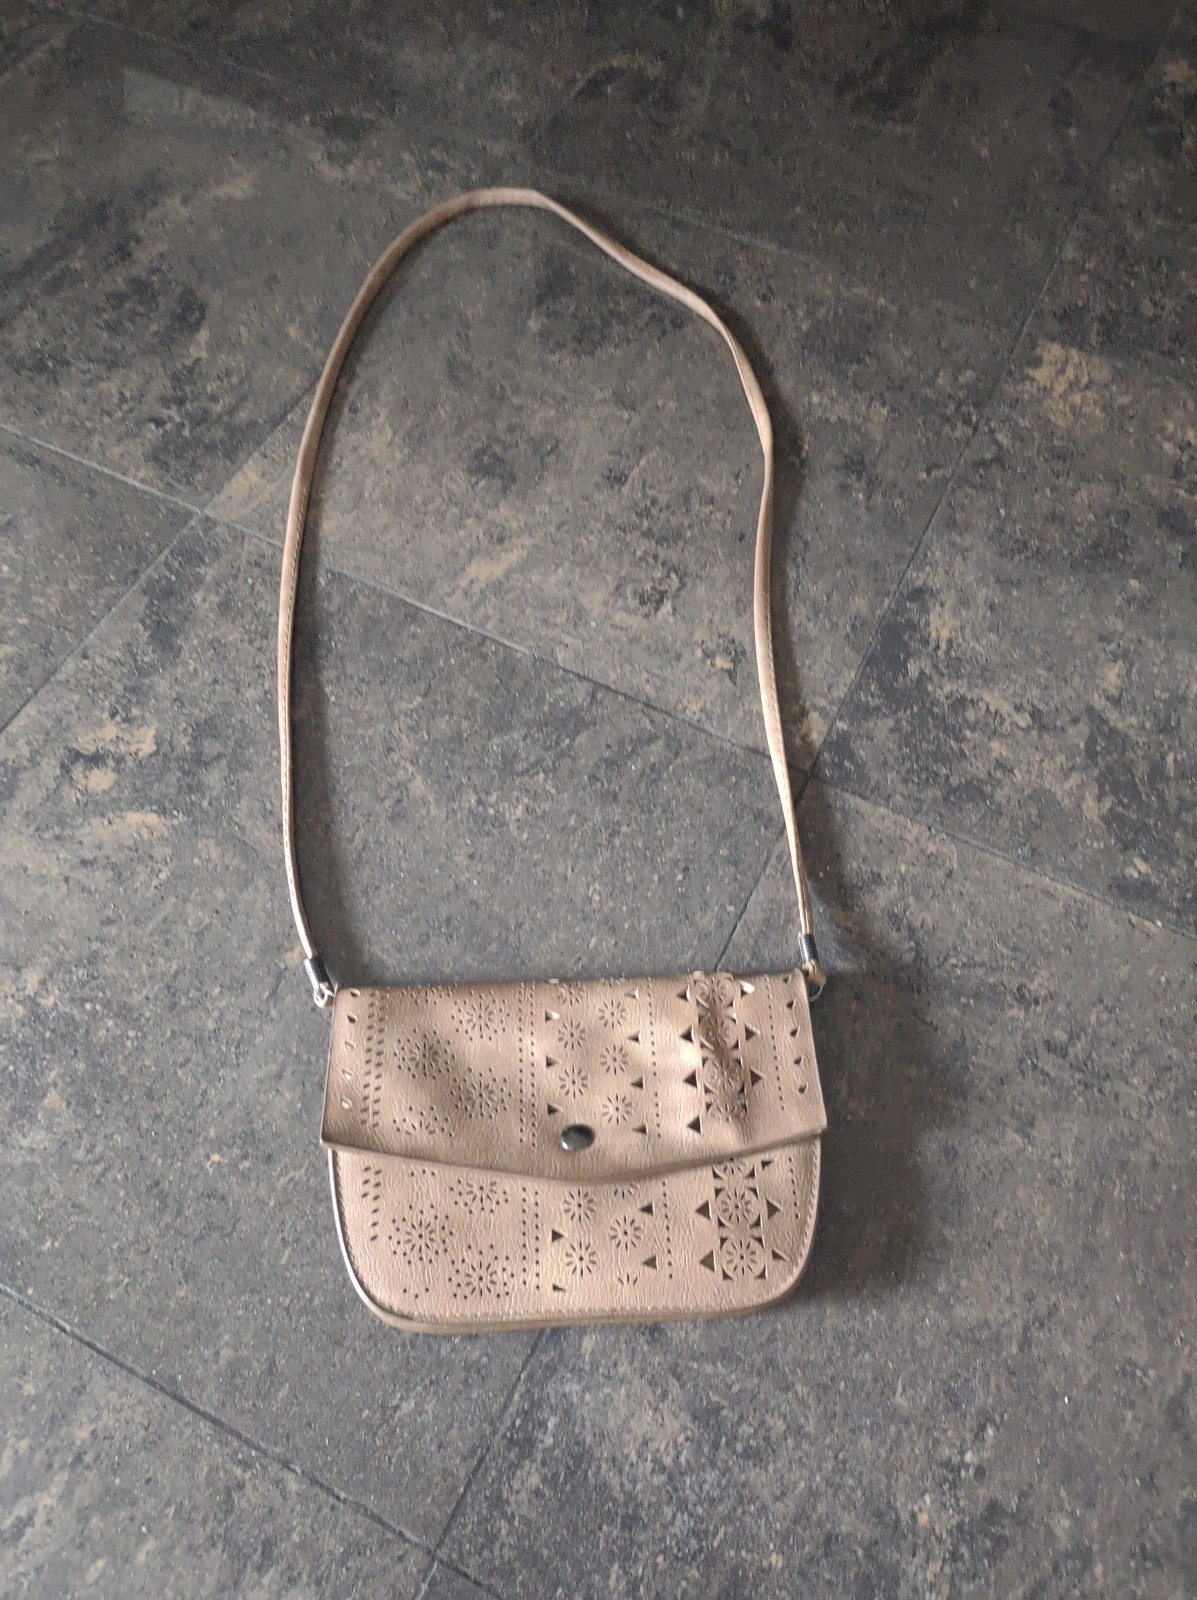cartera: (165, 431, 969, 1414)
gamuza: (328, 977, 831, 1316)
